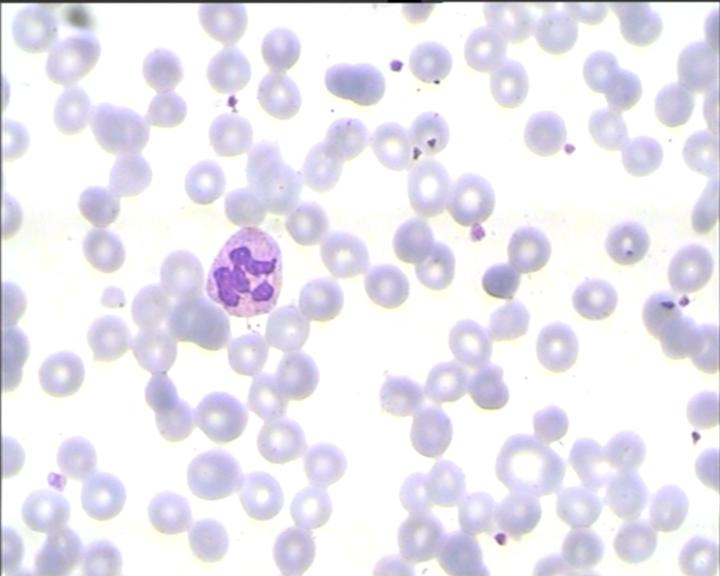neut: (202, 221, 288, 321)
